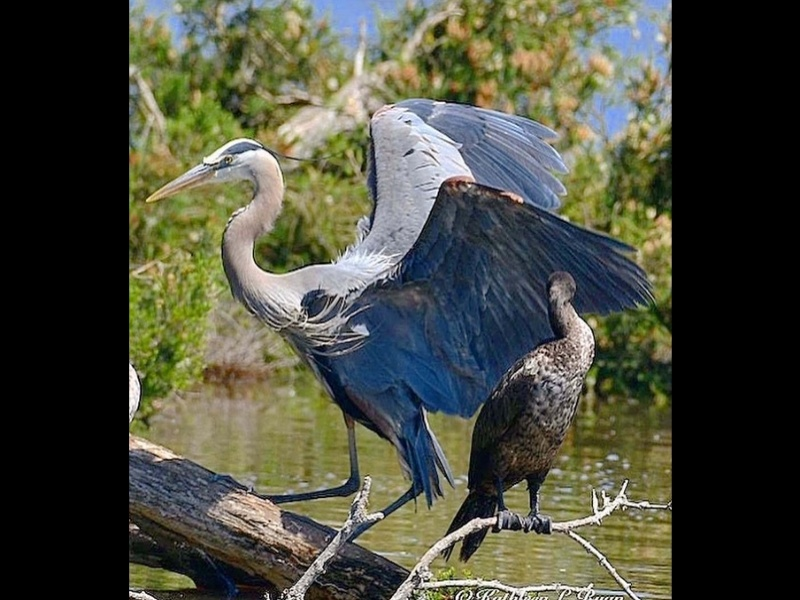heron: (145, 97, 652, 541)
